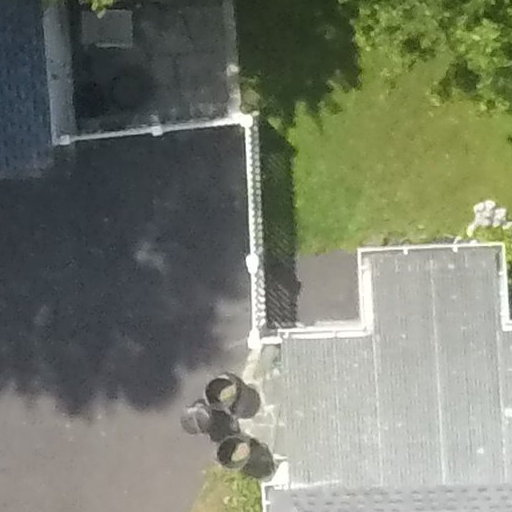container: (203, 366, 240, 415), (215, 428, 254, 473), (178, 395, 218, 437)
fence: (52, 102, 260, 150), (234, 107, 277, 333)
trash bin: (215, 430, 263, 477), (198, 374, 245, 410), (178, 402, 218, 437)
